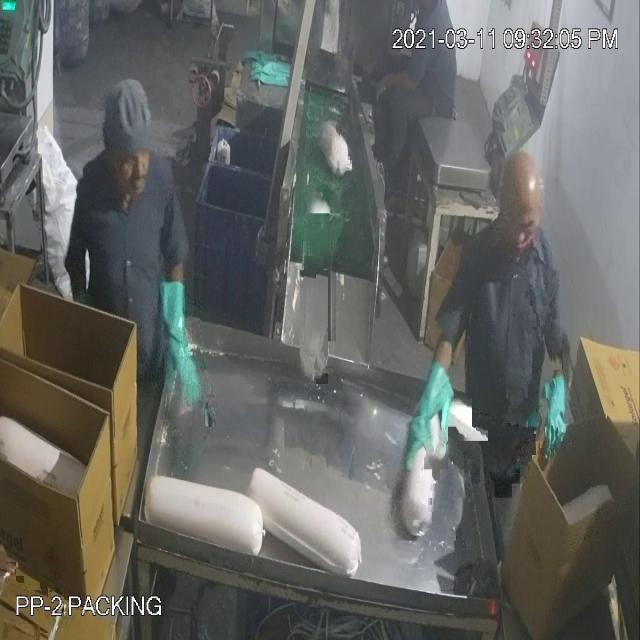No_Gloves: (371, 61, 436, 119)
